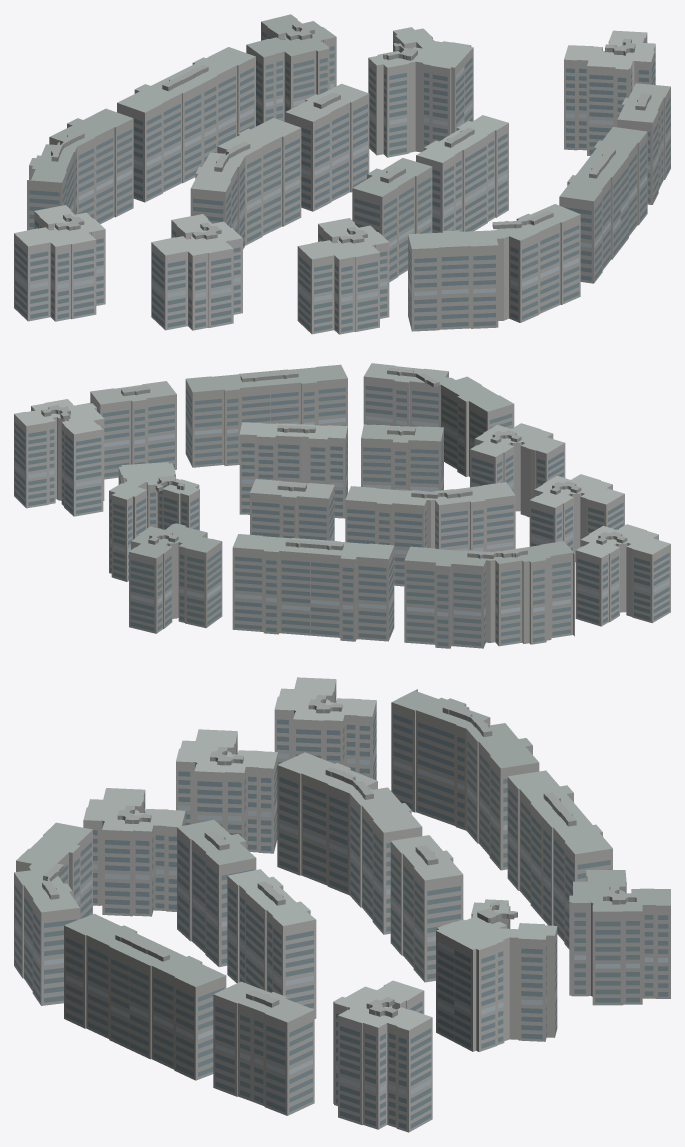
File: apt-a13519005.glb
3 renders of one model, top to bottom at view 1: azimuth 30°, elevation 25°; view 2: azimuth 150°, elevation 25°; view 3: azimuth 270°, elevation 25°, orthographic. The views are drawn at different scales.
Visible parts, largest first — view 1: apt-a13519005; view 2: apt-a13519005; view 3: apt-a13519005.
Part boxes in pixels (left/top/right/bottom): apt-a13519005: left=14, top=14, right=670, bottom=334; apt-a13519005: left=14, top=363, right=670, bottom=648; apt-a13519005: left=14, top=677, right=670, bottom=1132.
Bounding box in the file's own units: 268 × 36 × 201.
